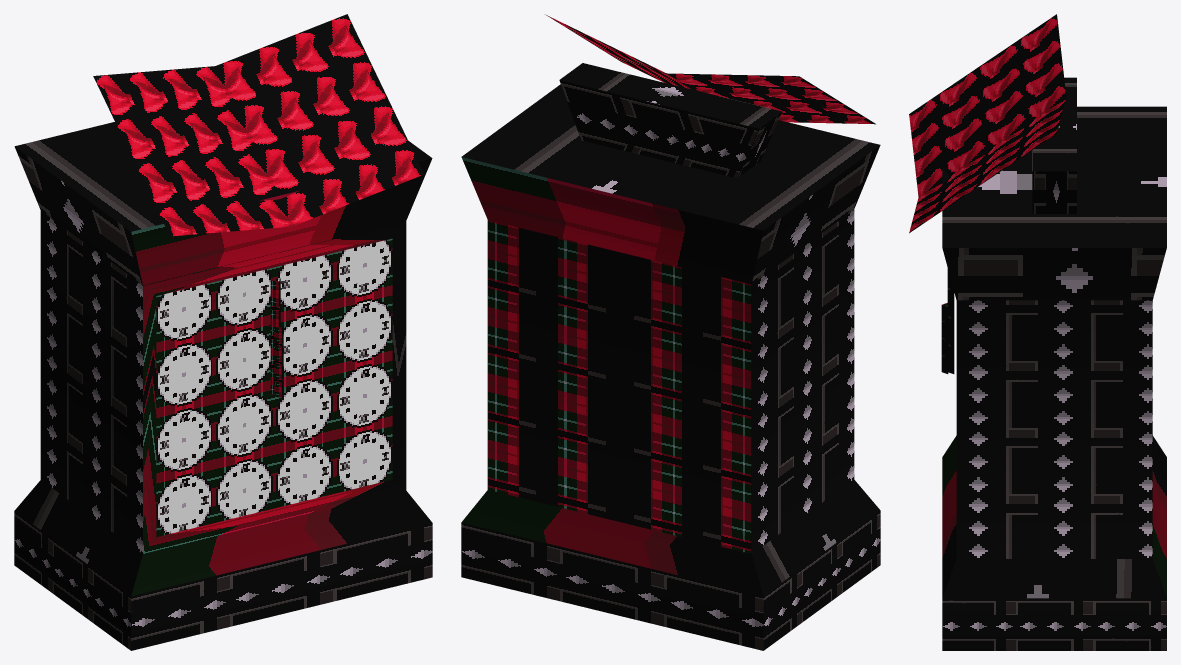
The model's file is 3832kg3_ser13.gltf.
3 renders of one model, left to right at view 1: azimuth 30°, elevation 25°; view 2: azimuth 150°, elevation 25°; view 3: azimuth 270°, elevation 25°, orthographic. The views are drawn at different scales.
Parts seen in each view (by area): view 1: 3832kg3_ser13; view 2: 3832kg3_ser13; view 3: 3832kg3_ser13.
Part boxes in pixels (left/top/right/bottom): 3832kg3_ser13: left=14, top=14, right=432, bottom=650; 3832kg3_ser13: left=461, top=14, right=880, bottom=650; 3832kg3_ser13: left=909, top=14, right=1166, bottom=650.
Size of the model in its own units: 0.5957 by 0.9939 by 0.4592.
4 materials, 4 textured.
